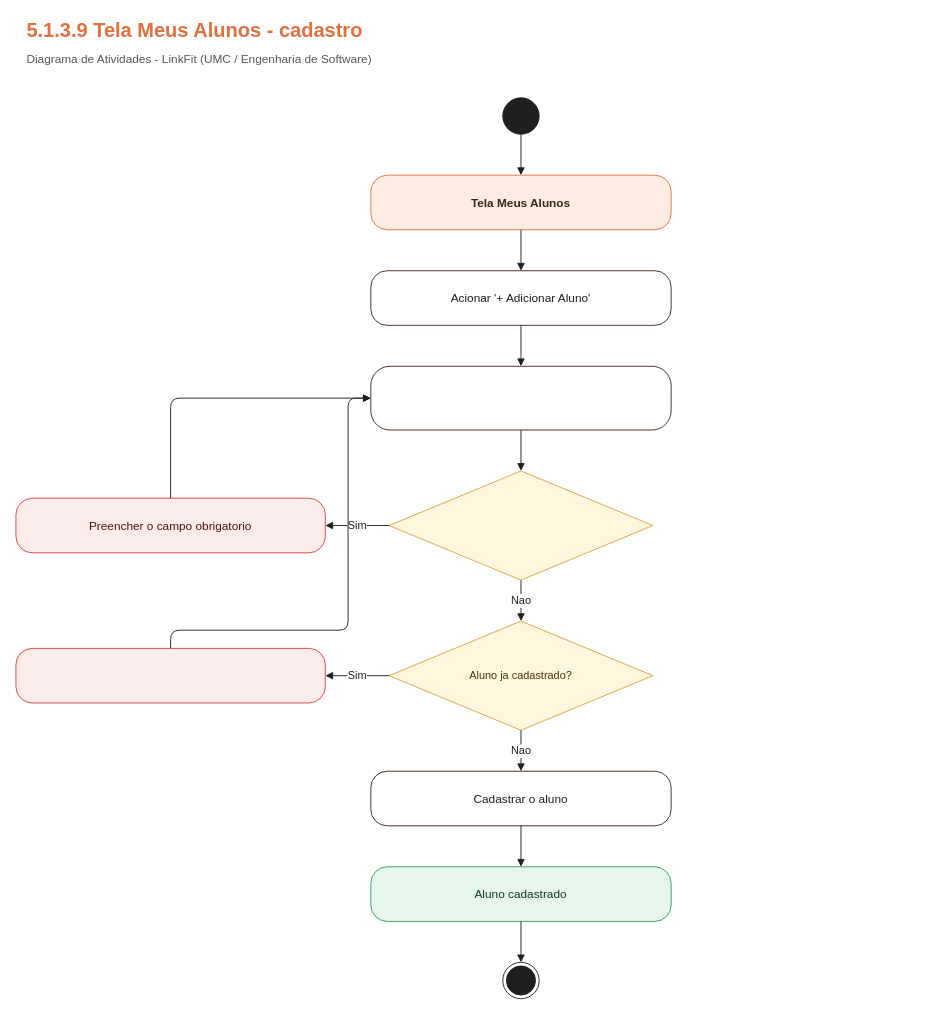
Image size: 951x1015. Some labels were removed from this diagram. Each missing label, with the centre of its shape:
Campo em branco?: (520,525)
Exibir aviso de aluno ja cadastrado: (170,675)
Inserir nome, objetivo, e-mail, telefone e foto: (520,397)
